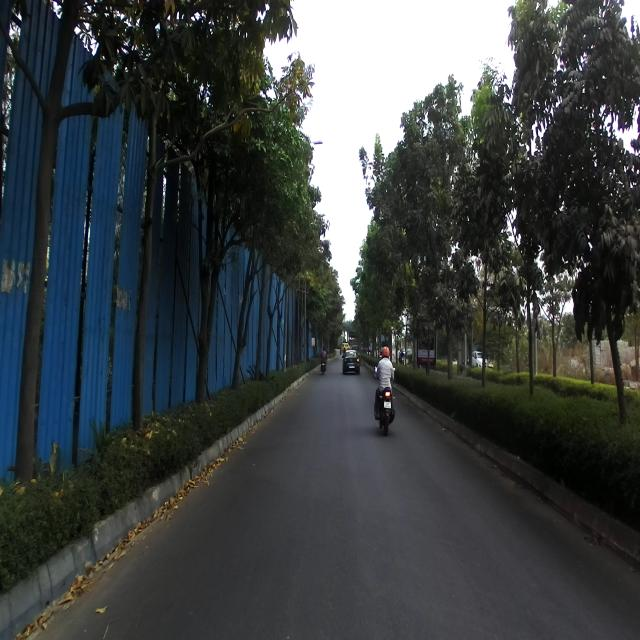motorcycle ahead at: (374, 378, 398, 435)
